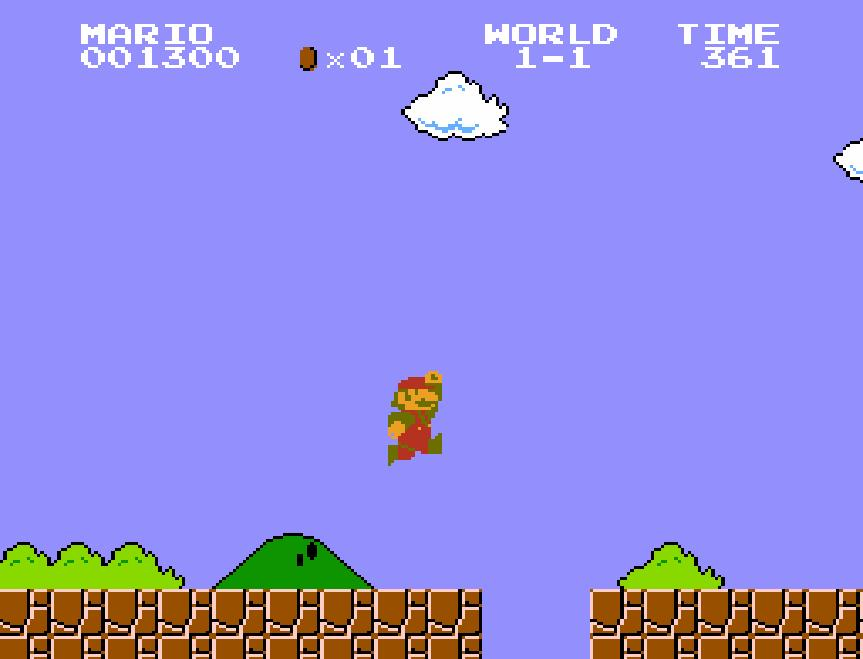big_mario: (386, 369, 444, 467)
